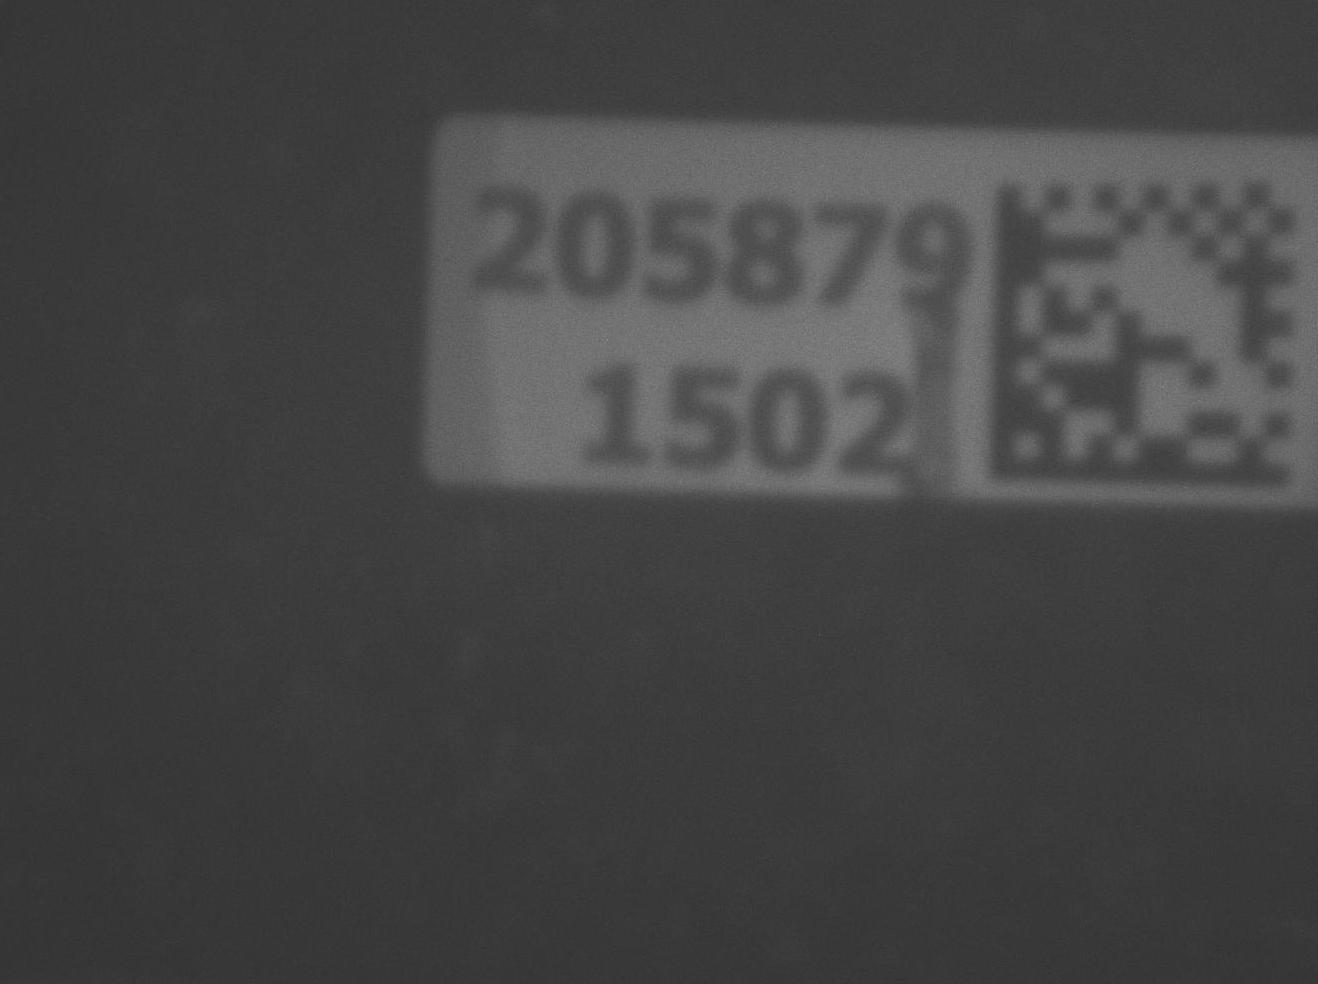data matrix: (978, 151, 1317, 501)
